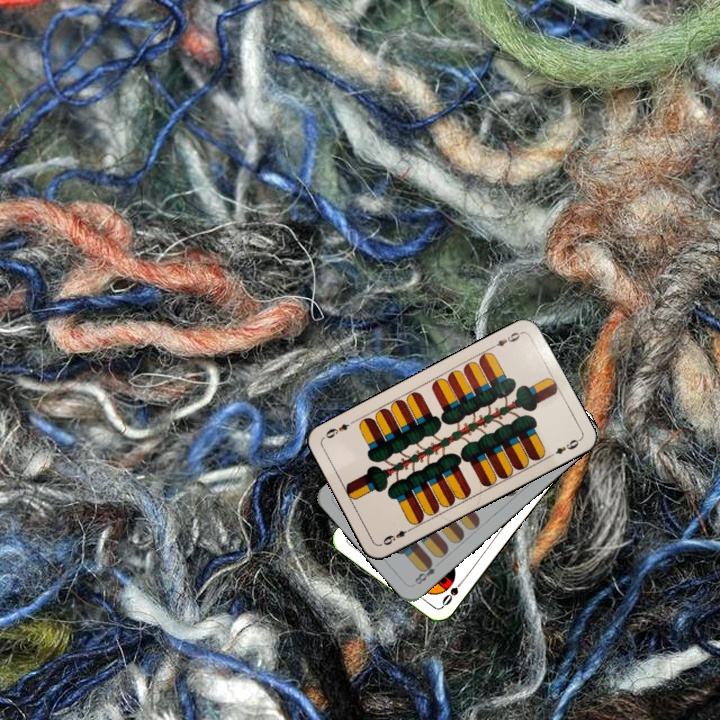E8: (410, 557, 438, 587)
E9: (487, 328, 525, 351), (379, 524, 415, 548)
SO: (438, 574, 468, 608)
